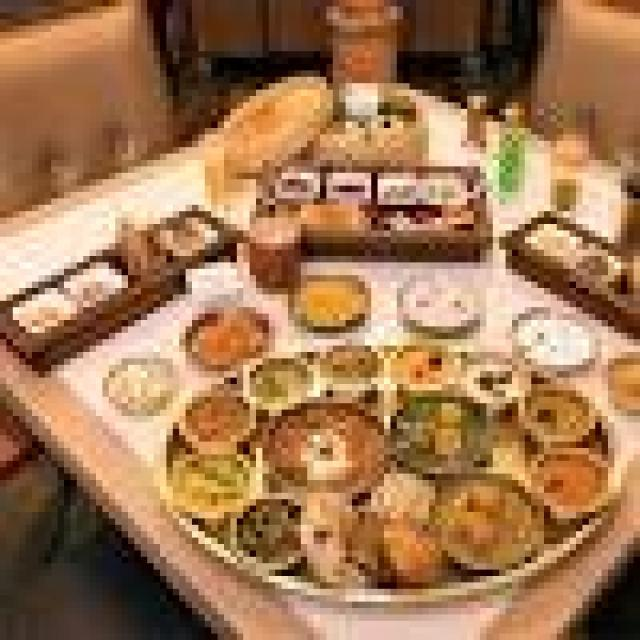dal: (259, 394, 397, 494), (282, 272, 380, 338)
sweet: (167, 296, 286, 382), (390, 272, 494, 339)
